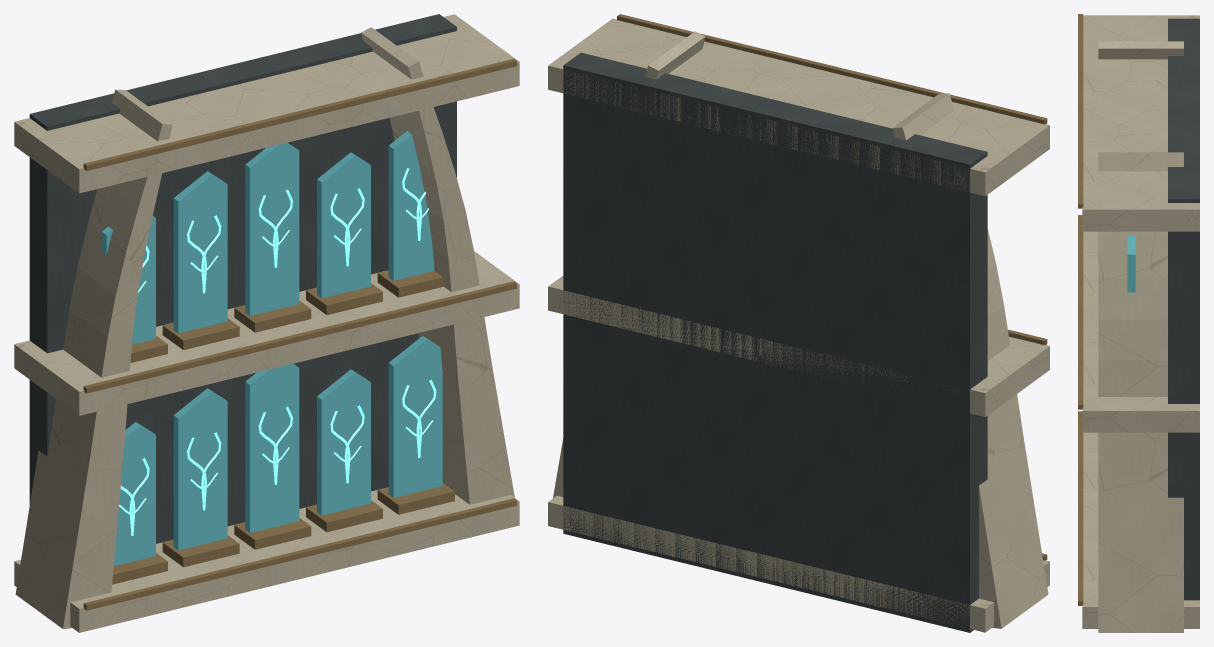
File: archive-bay.glb
3 views of the same model, side by side, from view 1: azimuth 30°, elevation 25°; view 2: azimuth 150°, elevation 25°; view 3: azimuth 270°, elevation 25° (orthographic). The views are drawn at different scales.
Parts seen in each view (by area): view 1: ceramic, ARCHIVE_CYAN, basalt, bronze, ACTIVE_CYAN; view 2: basalt, ceramic, bronze; view 3: ceramic, basalt, bronze, ARCHIVE_CYAN.
Part boxes in pixels (<box>): ceramic: <box>14,14,519,632</box>; ARCHIVE_CYAN: <box>102,131,442,565</box>; basalt: <box>29,14,456,543</box>; bronze: <box>83,58,516,610</box>; ACTIVE_CYAN: <box>119,168,436,535</box>; basalt: <box>563,52,987,632</box>; ceramic: <box>548,18,1049,632</box>; bronze: <box>617,14,1047,560</box>; ceramic: <box>1082,15,1199,632</box>; basalt: <box>1168,18,1199,600</box>; bronze: <box>1078,14,1083,605</box>; ARCHIVE_CYAN: <box>1127,236,1135,292</box>.
Size of the model in its own units: 8.89 by 9.09 by 2.28.
5 materials, 3 textured.
